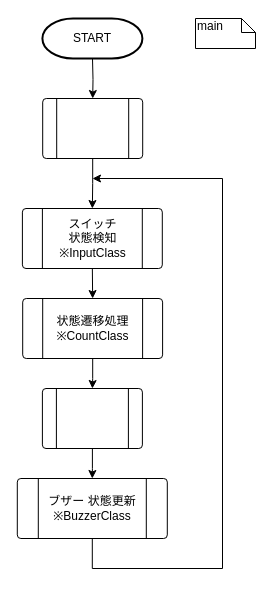
The diagram is 274 pixels wide and 594 high, and some of its shapes have lost their labels. Each missing label, with the centre of its shape:
"LCD更新 ※LCDClass" belongs at point (91, 418).
"初期設定" belongs at point (92, 128).
